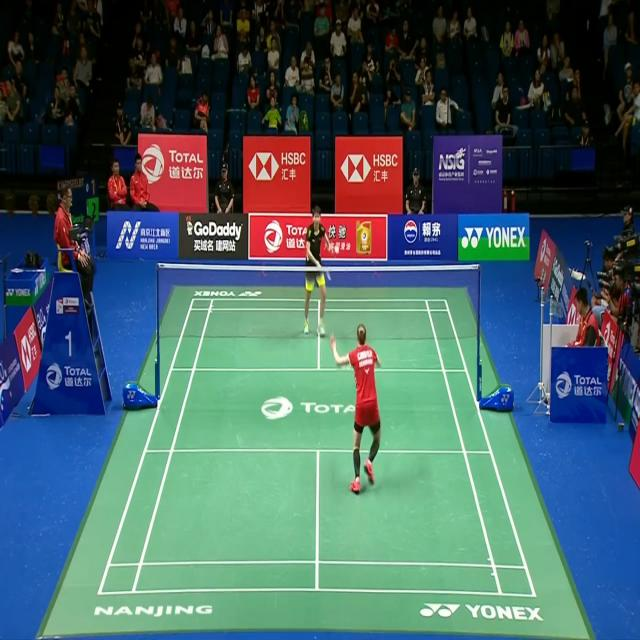Player1: (328, 311, 391, 504)
Player2: (301, 198, 335, 344)
